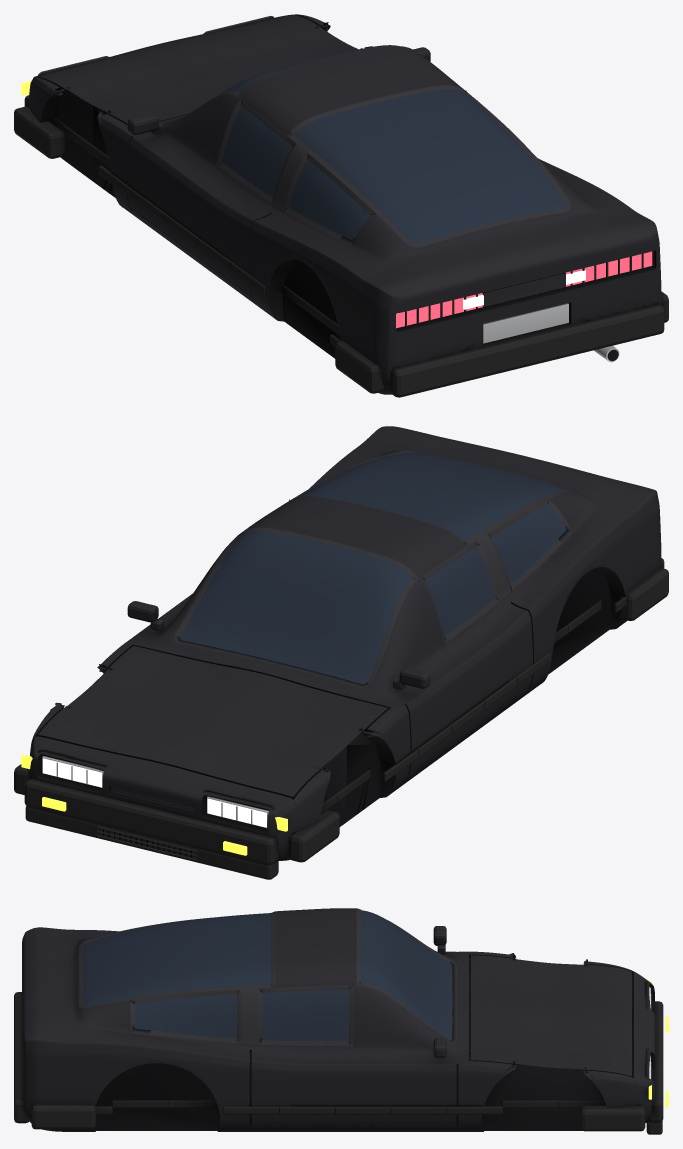
Rendered from coupe.glb.
3 views of the same model, one above another, from view 1: azimuth 30°, elevation 25°; view 2: azimuth 150°, elevation 25°; view 3: azimuth 270°, elevation 25° (orthographic). The views are drawn at different scales.
Visible parts, largest first — view 1: body, glass_panes, part.022, part.025, part.050, part.017, part.023, part.047, cabin_skin; view 2: body, glass_panes, part.016, part.019, part.017, part.023, part.006, part.001, object 7; view 3: body, glass_panes, part.024, part.018, part.016, part.022, part.059, part.065, part.067, part.061, part.063, part.057 (+2 smaller).
Part boxes in pixels (bbox=[...]): body: bbox=[29, 14, 661, 394]; glass_panes: bbox=[218, 45, 565, 243]; part.022: bbox=[389, 304, 664, 397]; part.025: bbox=[396, 251, 652, 328]; part.050: bbox=[482, 303, 568, 343]; part.017: bbox=[14, 106, 64, 158]; part.023: bbox=[335, 341, 384, 393]; part.047: bbox=[482, 272, 565, 306]; cabin_skin: bbox=[32, 16, 654, 317]; body: bbox=[29, 426, 661, 860]; glass_panes: bbox=[180, 452, 566, 684]; part.016: bbox=[24, 778, 278, 864]; part.019: bbox=[25, 806, 278, 879]; part.017: bbox=[289, 810, 339, 862]; part.023: bbox=[618, 568, 668, 620]; part.006: bbox=[42, 758, 102, 787]; part.001: bbox=[207, 798, 266, 827]; object 7: bbox=[97, 826, 197, 860]; body: bbox=[22, 908, 655, 1131]; glass_panes: bbox=[83, 910, 452, 1041]; part.024: bbox=[31, 1104, 95, 1129]; part.018: bbox=[581, 1106, 645, 1131]; part.016: bbox=[648, 1001, 663, 1122]; part.022: bbox=[14, 992, 28, 1123]; part.059: bbox=[446, 1106, 502, 1114]; part.065: bbox=[279, 1106, 335, 1114]; part.067: bbox=[223, 1106, 279, 1114]; part.061: bbox=[391, 1106, 446, 1114]; part.063: bbox=[335, 1106, 390, 1114]; part.057: bbox=[502, 1100, 558, 1107].
Size of the model in its own units: 1.82 by 1.04 by 4.08.
